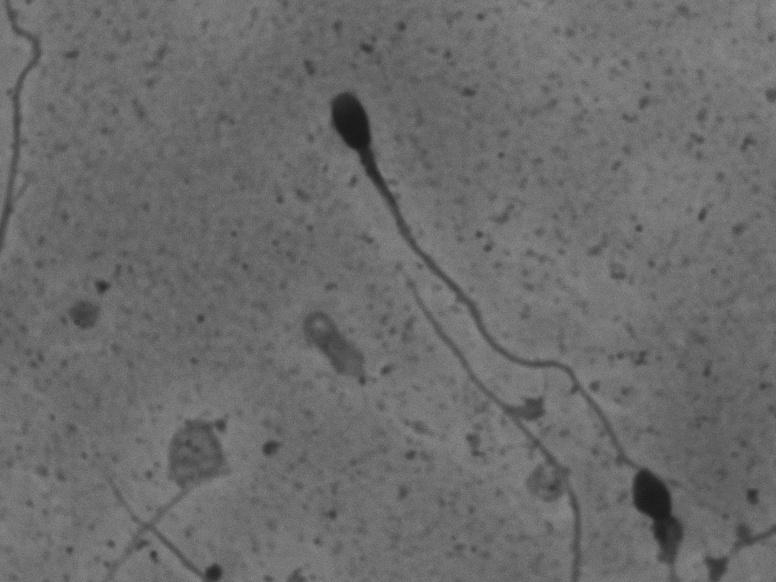Normal: (306, 72, 654, 471)
